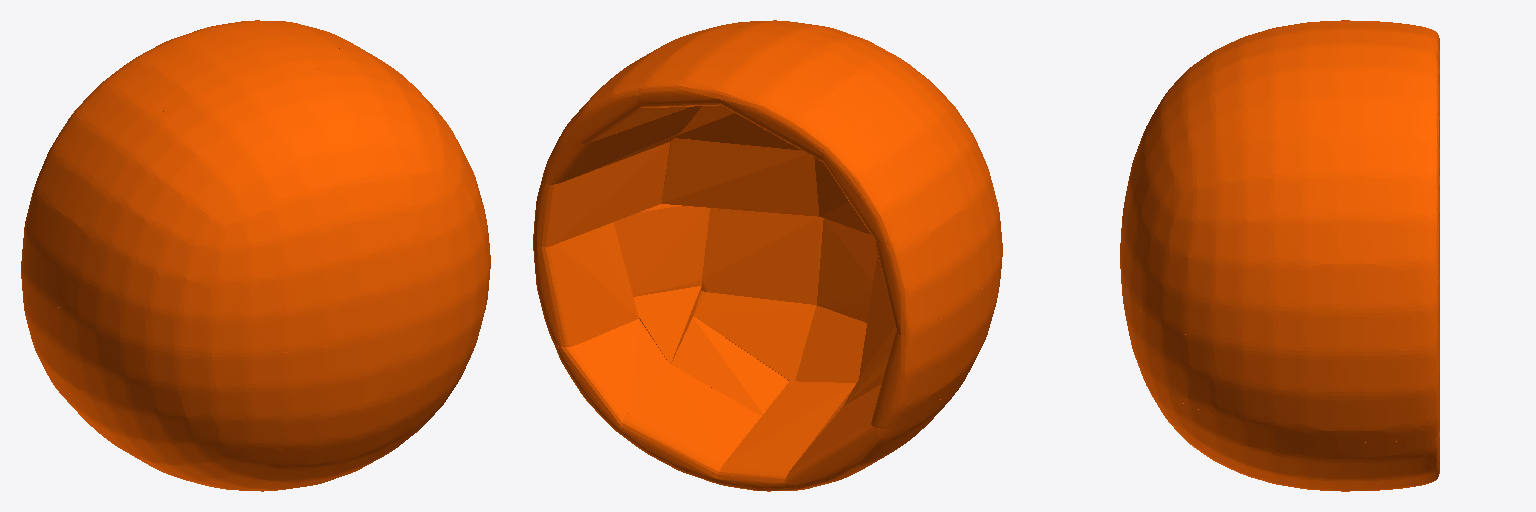
URDF robot description (Roundbowl):
<?xml version="1.0" ?>
<robot name="Roundbowl">
   <material name="obj_color">
      <color rgba="1.0 0.423529411765 0.0392156862745 1.0"/>
   </material>
   <link name="top">
      <inertial>
         <origin rpy="0.001998707424360419 0.002013535531429793 0.002888068805523448" xyz="3.114647441723665e-05 -0.003263346263213042 0.0002353634847531297"/>
         <mass value="1.198300016015405"/>
         <inertia ixx="0.00200071864044476" ixy="3.778949900081095e-06" ixz="-5.091708058618558e-06" iyy="0.002887989906261733" iyz="-7.39757203686616e-06" izz="0.002011603214607168"/>
      </inertial>
      <visual>
         <origin rpy="0 0 0" xyz="0 0 0"/>
         <geometry>
            <mesh filename="top_watertight_tiny.obj" scale="1 1 1"/>
         </geometry>
         <material name="obj_color"/>
      </visual>
      <collision>
         <origin rpy="0 0 0" xyz="0 0 0"/>
         <geometry>
            <mesh filename="top_watertight_tiny.obj" scale="1 1 1"/>
         </geometry>
      </collision>
   </link>
</robot>

--- Render facts (derived) ---
3 views of the same robot in one strip: view 1: azimuth 30°, elevation 25°; view 2: azimuth 150°, elevation 25°; view 3: azimuth 270°, elevation 25° (orthographic).
Model Roundbowl with 1 links and 0 joints (none), rooted at top, posed all joints at 0.
Links seen in each view (by area): view 1: top; view 2: top; view 3: top.
Link boxes in pixels (x1,y1,x2,y2): top: (21,20,490,491); top: (533,20,1002,491); top: (1120,20,1439,491).
Size in the robot's own frame: 0.132 by 0.0909 by 0.1321 metres.
1 mesh visuals loaded from 1 distinct referenced files (1 OBJ).